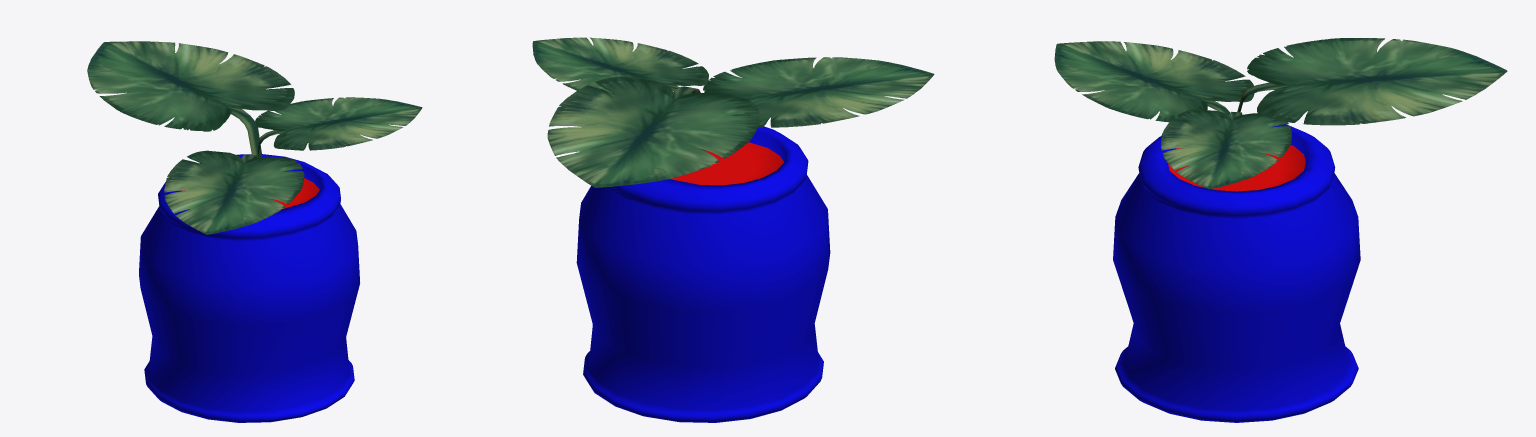
Rendered from Table_Plant.fbx.
3 views of the same model, side by side, from view 1: azimuth 30°, elevation 25°; view 2: azimuth 150°, elevation 25°; view 3: azimuth 270°, elevation 25° (orthographic). The views are drawn at different scales.
Visible parts, largest first — view 1: Pot, Leaf1, Leaf2, Leaf3; view 2: Pot, Leaf1, Leaf2, Leaf3; view 3: Pot, Leaf1, Leaf2, Leaf3.
Part boxes in pixels (x1,y1,x2,y2): Pot: [139, 154, 359, 422]; Leaf1: [87, 41, 294, 157]; Leaf2: [164, 150, 304, 234]; Leaf3: [255, 97, 422, 156]; Pot: [576, 126, 830, 422]; Leaf1: [547, 76, 759, 187]; Leaf2: [700, 57, 934, 149]; Leaf3: [532, 37, 708, 149]; Pot: [1113, 124, 1360, 422]; Leaf1: [1237, 38, 1507, 125]; Leaf2: [1054, 41, 1254, 122]; Leaf3: [1161, 109, 1291, 189].
Bounding box in the file's own units: 2.89 × 2.05 × 3.39.
